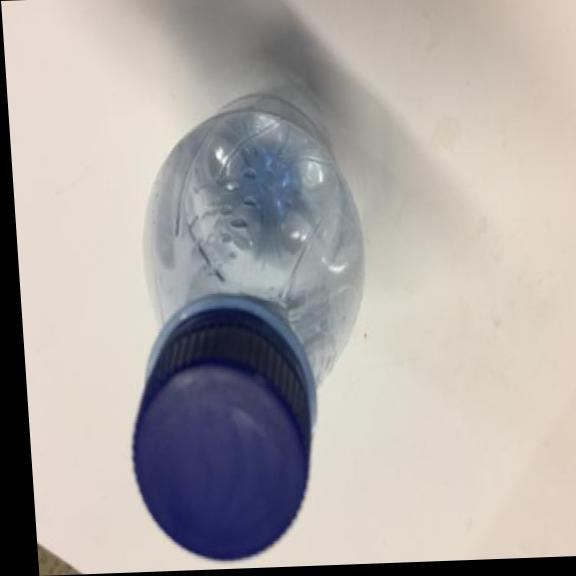Plastik: (102, 53, 391, 568)
